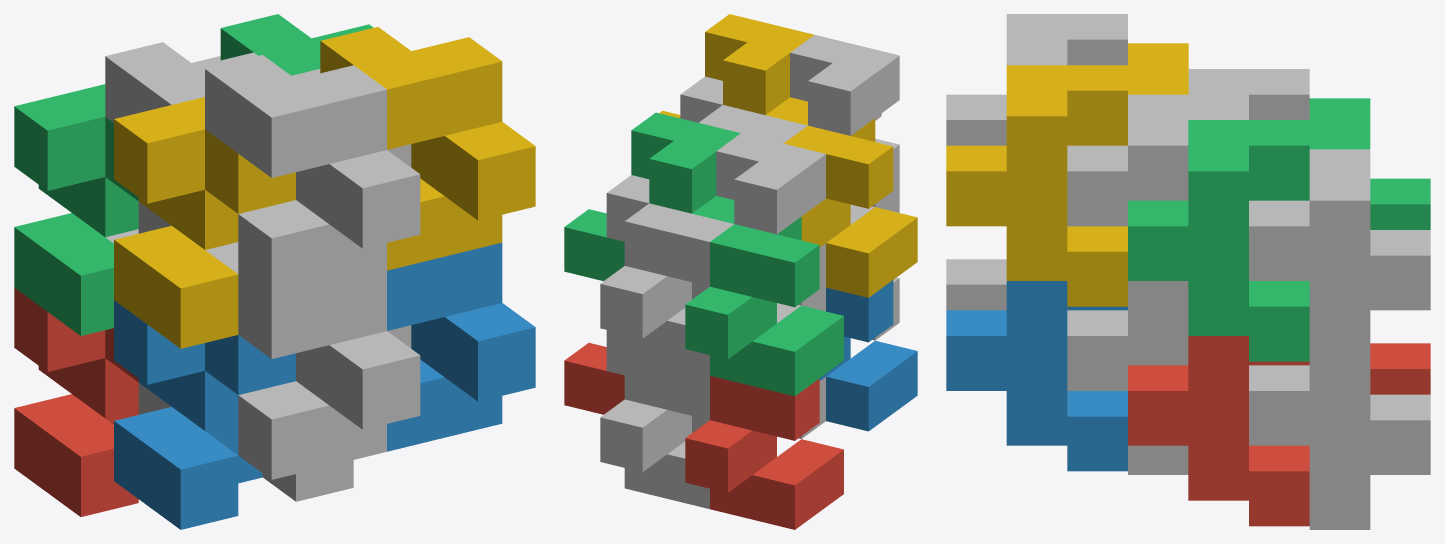
Rendered from tiling.obj.
3 renders of one model, left to right at view 1: azimuth 30°, elevation 25°; view 2: azimuth 150°, elevation 25°; view 3: azimuth 270°, elevation 25°, orthographic. The views are drawn at different scales.
Parts seen in each view (by area): view 1: copy_2_domain_4, copy_2_domain_2, copy_2_domain_8, copy_1_domain_4, copy_1_domain_2, copy_1_domain_3, copy_2_domain_6, copy_1_domain_1, copy_2_domain_3, copy_2_domain_7, copy_1_domain_6, copy_2_domain_1; view 2: copy_1_domain_3, copy_1_domain_1, copy_1_domain_7, copy_1_domain_4, copy_1_domain_5, copy_2_domain_7, copy_1_domain_2, copy_2_domain_3, copy_2_domain_4, copy_2_domain_8, copy_1_domain_8, copy_2_domain_5 (+2 smaller); view 3: copy_2_domain_8, copy_2_domain_7, copy_1_domain_7, copy_2_domain_6, copy_2_domain_5, copy_1_domain_5, copy_1_domain_8, copy_1_domain_6, copy_2_domain_4, copy_1_domain_3, copy_2_domain_3, copy_1_domain_1 (+2 smaller).
Part boxes in pixels (bbox=[...]): copy_2_domain_4: bbox=[205, 55, 420, 298]; copy_2_domain_2: bbox=[205, 242, 420, 479]; copy_2_domain_8: bbox=[320, 27, 535, 270]; copy_1_domain_4: bbox=[114, 97, 295, 348]; copy_1_domain_2: bbox=[114, 300, 295, 529]; copy_1_domain_3: bbox=[14, 84, 138, 335]; copy_2_domain_6: bbox=[387, 242, 535, 451]; copy_1_domain_1: bbox=[14, 287, 138, 516]; copy_2_domain_3: bbox=[105, 42, 258, 233]; copy_2_domain_7: bbox=[220, 14, 373, 75]; copy_1_domain_6: bbox=[262, 325, 411, 501]; copy_2_domain_1: bbox=[105, 229, 171, 414]; copy_1_domain_3: bbox=[685, 196, 843, 396]; copy_1_domain_1: bbox=[685, 375, 843, 529]; copy_1_domain_7: bbox=[600, 175, 733, 375]; copy_1_domain_4: bbox=[766, 97, 917, 297]; copy_1_domain_5: bbox=[600, 330, 709, 508]; copy_2_domain_7: bbox=[564, 112, 740, 280]; copy_1_domain_2: bbox=[819, 280, 917, 431]; copy_2_domain_3: bbox=[692, 133, 825, 305]; copy_2_domain_4: bbox=[790, 35, 899, 206]; copy_2_domain_8: bbox=[659, 14, 814, 118]; copy_1_domain_8: bbox=[680, 76, 807, 143]; copy_2_domain_5: bbox=[564, 343, 624, 414]; copy_2_domain_8: bbox=[946, 65, 1127, 306]; copy_2_domain_7: bbox=[1128, 120, 1309, 361]; copy_1_domain_7: bbox=[1249, 149, 1430, 365]; copy_2_domain_6: bbox=[946, 281, 1127, 471]; copy_2_domain_5: bbox=[1128, 336, 1309, 526]; copy_1_domain_5: bbox=[1249, 365, 1430, 529]; copy_1_domain_8: bbox=[1067, 94, 1188, 310]; copy_1_domain_6: bbox=[1067, 310, 1188, 474]; copy_2_domain_4: bbox=[946, 14, 1127, 145]; copy_1_domain_3: bbox=[1309, 98, 1430, 229]; copy_2_domain_3: bbox=[1188, 69, 1309, 119]; copy_1_domain_1: bbox=[1370, 343, 1430, 394].
Bounding box in the file's own units: 6 × 8 × 8.
